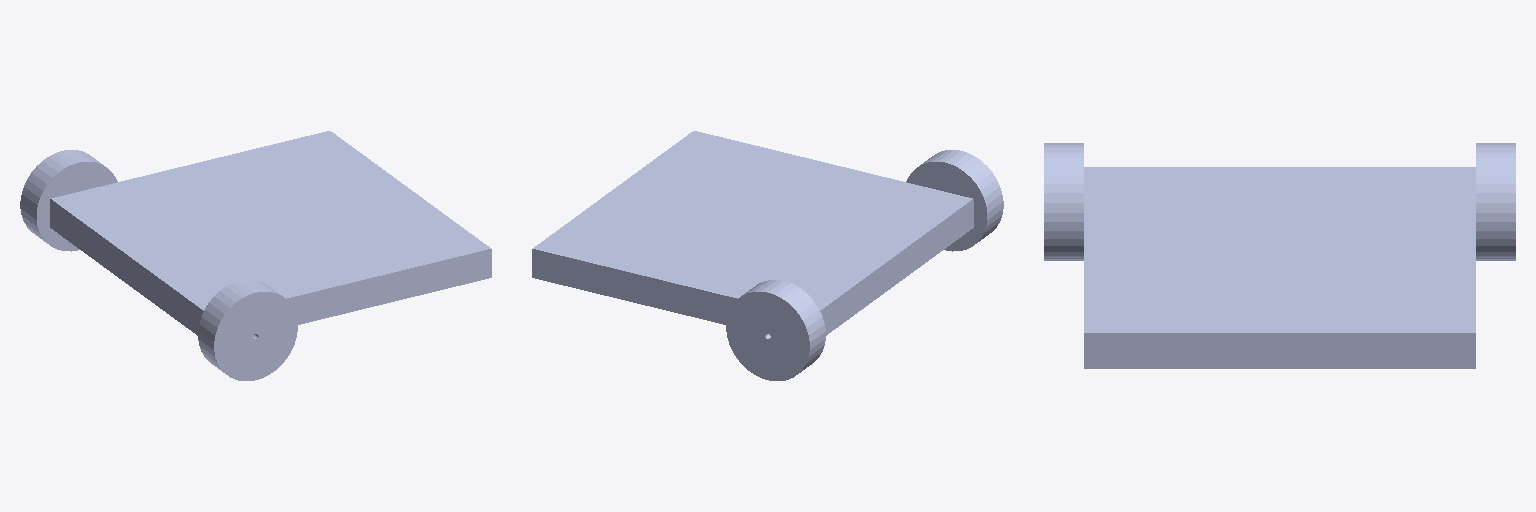
URDF robot description (t3):
<robot
  name="t3">
  <link
    name="base_link">
    <inertial>
      <origin
        xyz="0.040126 1.5266E-16 -0.005"
        rpy="0 0 0" />
      <mass
        value="0.099686" />
      <inertia
        ixx="8.3905E-05"
        ixy="-2.8195E-21"
        ixz="1.6628E-21"
        iyy="8.3662E-05"
        iyz="2.873E-19"
        izz="0.0001659" />
    </inertial>
    <visual>
      <origin
        xyz="0 0 0"
        rpy="0 0 0" />
      <geometry>
        <mesh
          filename="package://t3/meshes/base_link.STL" />
      </geometry>
      <material
        name="">
        <color
          rgba="0.79216 0.81961 0.93333 1" />
      </material>
    </visual>
    <collision>
      <origin
        xyz="0 0 0"
        rpy="0 0 0" />
      <geometry>
        <mesh
          filename="package://t3/meshes/base_link.STL" />
      </geometry>
    </collision>
  </link>
  <link
    name="l_whe">
    <inertial>
      <origin
        xyz="-2.0817E-17 -0.005 6.9389E-18"
        rpy="0 0 0" />
      <mass
        value="0.0070372" />
      <inertia
        ixx="4.5624E-07"
        ixy="-1.029E-39"
        ixz="-1.1998E-43"
        iyy="7.952E-07"
        iyz="-2.8951E-39"
        izz="4.5624E-07" />
    </inertial>
    <visual>
      <origin
        xyz="0 0 0"
        rpy="0 0 0" />
      <geometry>
        <mesh
          filename="package://t3/meshes/l_whe.STL" />
      </geometry>
      <material
        name="">
        <color
          rgba="0.79216 0.81961 0.93333 1" />
      </material>
    </visual>
    <collision>
      <origin
        xyz="0 0 0"
        rpy="0 0 0" />
      <geometry>
        <mesh
          filename="package://t3/meshes/l_whe.STL" />
      </geometry>
    </collision>
  </link>
  <joint
    name="l_jo"
    type="continuous">
    <origin
      xyz="0 -0.06 -0.005"
      rpy="0 0 3.1416" />
    <parent
      link="base_link" />
    <child
      link="l_whe" />
    <axis
      xyz="0 1 0" />
  </joint>
  <link
    name="r_whe">
    <inertial>
      <origin
        xyz="6.9389E-18 0.005 -6.9389E-18"
        rpy="0 0 0" />
      <mass
        value="0.0070372" />
      <inertia
        ixx="4.5624E-07"
        ixy="-1.029E-39"
        ixz="-1.1998E-43"
        iyy="7.952E-07"
        iyz="-1.1479E-39"
        izz="4.5624E-07" />
    </inertial>
    <visual>
      <origin
        xyz="0 0 0"
        rpy="0 0 0" />
      <geometry>
        <mesh
          filename="package://t3/meshes/r_whe.STL" />
      </geometry>
      <material
        name="">
        <color
          rgba="0.79216 0.81961 0.93333 1" />
      </material>
    </visual>
    <collision>
      <origin
        xyz="0 0 0"
        rpy="0 0 0" />
      <geometry>
        <mesh
          filename="package://t3/meshes/r_whe.STL" />
      </geometry>
    </collision>
  </link>
  <joint
    name="r_jo"
    type="continuous">
    <origin
      xyz="0 0.06 -0.005"
      rpy="0 0 3.1416" />
    <parent
      link="base_link" />
    <child
      link="r_whe" />
    <axis
      xyz="0 1 0" />
  </joint>
</robot>

--- Facts derived from the render (not from the file) ---
The picture shows the robot from 3 angles, left to right: view 1: azimuth 30°, elevation 25°; view 2: azimuth 150°, elevation 25°; view 3: azimuth 270°, elevation 25°; orthographic projection.
Model t3 with 3 links and 2 joints (2 continuous), rooted at base_link, posed every joint at zero.
Visible links, largest first — view 1: base_link, l_whe, r_whe; view 2: base_link, r_whe, l_whe; view 3: base_link, l_whe, r_whe.
Link boxes in pixels (box(x1,y1,x2,y2)): base_link: box(50, 131, 491, 335); l_whe: box(198, 280, 297, 380); r_whe: box(20, 150, 117, 251); base_link: box(532, 131, 973, 335); r_whe: box(726, 280, 825, 380); l_whe: box(906, 150, 1003, 251); base_link: box(1084, 167, 1475, 368); l_whe: box(1044, 143, 1083, 260); r_whe: box(1476, 143, 1515, 260).
Bounding box of the posed robot: 0.1049 × 0.12 × 0.03 m (x, y, z).
Meshes: 3 distinct files referenced, 3 mesh visuals loaded (3 binary STL).